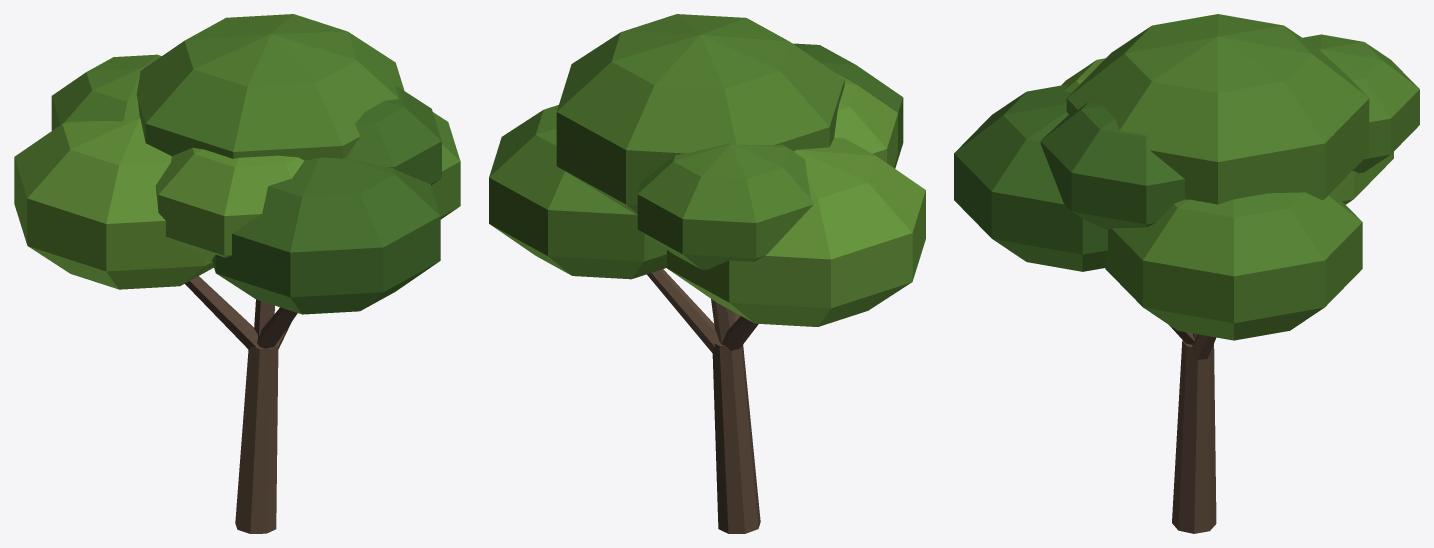
File: prop_neem_tree.glb
3 views of the same model, side by side, from view 1: azimuth 30°, elevation 25°; view 2: azimuth 150°, elevation 25°; view 3: azimuth 270°, elevation 25° (orthographic). The views are drawn at different scales.
Parts seen in each view (by area): view 1: prop_neem_tree; view 2: prop_neem_tree; view 3: prop_neem_tree.
Part boxes in pixels (x1,y1,x2,y2): prop_neem_tree: (14,14,460,533); prop_neem_tree: (489,14,925,533); prop_neem_tree: (954,14,1419,533).
Size of what is drawn, in the model's own units: 6.23 by 6.96 by 5.85.
